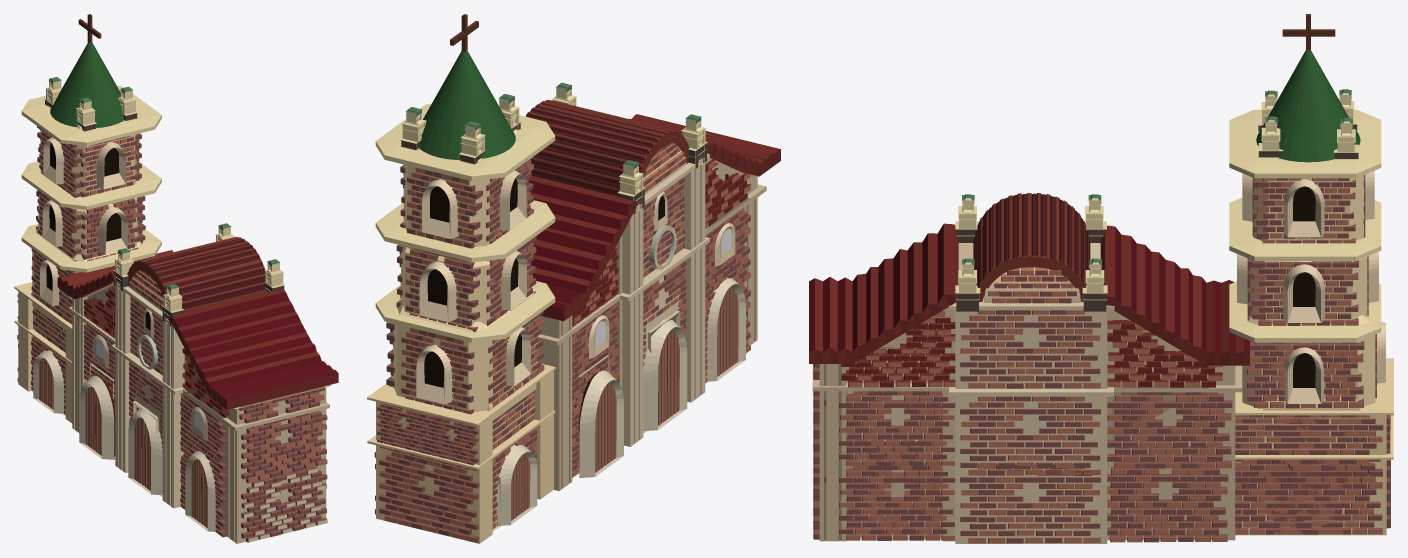
File: CHURCH.fbx
The picture shows the model from 3 angles, left to right: view 1: azimuth 30°, elevation 25°; view 2: azimuth 150°, elevation 25°; view 3: azimuth 270°, elevation 25°; orthographic projection. The views are drawn at different scales.
Visible parts, largest first — view 1: Church; view 2: Church; view 3: Church.
Part boxes in pixels (x1,y1,x2,y2): Church: [14, 14, 338, 543]; Church: [367, 14, 780, 543]; Church: [809, 14, 1393, 543].
Bounding box in the file's own units: 916 × 2881 × 3079.
